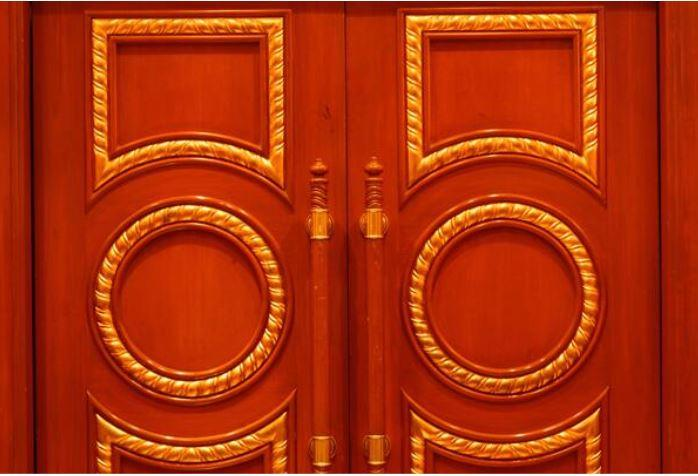door: (346, 0, 698, 476), (5, 0, 347, 476)
